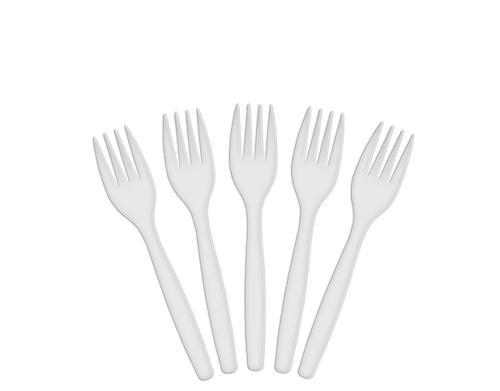Fork: (92, 125, 214, 381), (297, 120, 415, 380), (162, 108, 238, 374), (274, 108, 345, 373), (228, 104, 279, 371)
